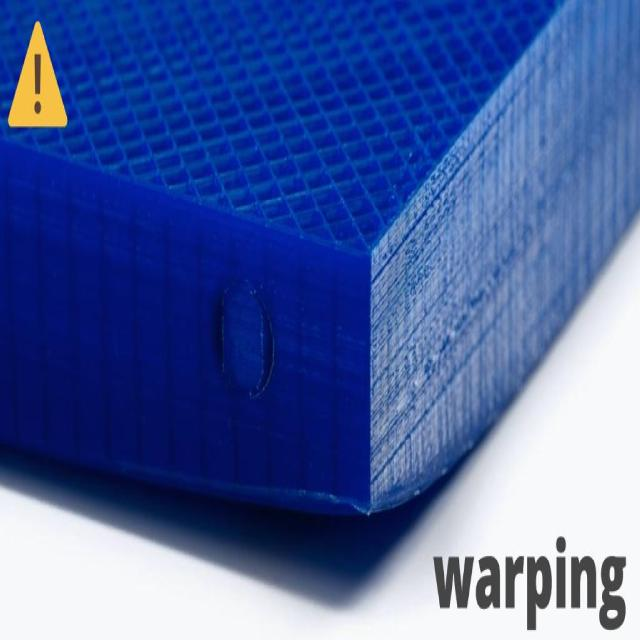Warping: (120, 445, 471, 560)
